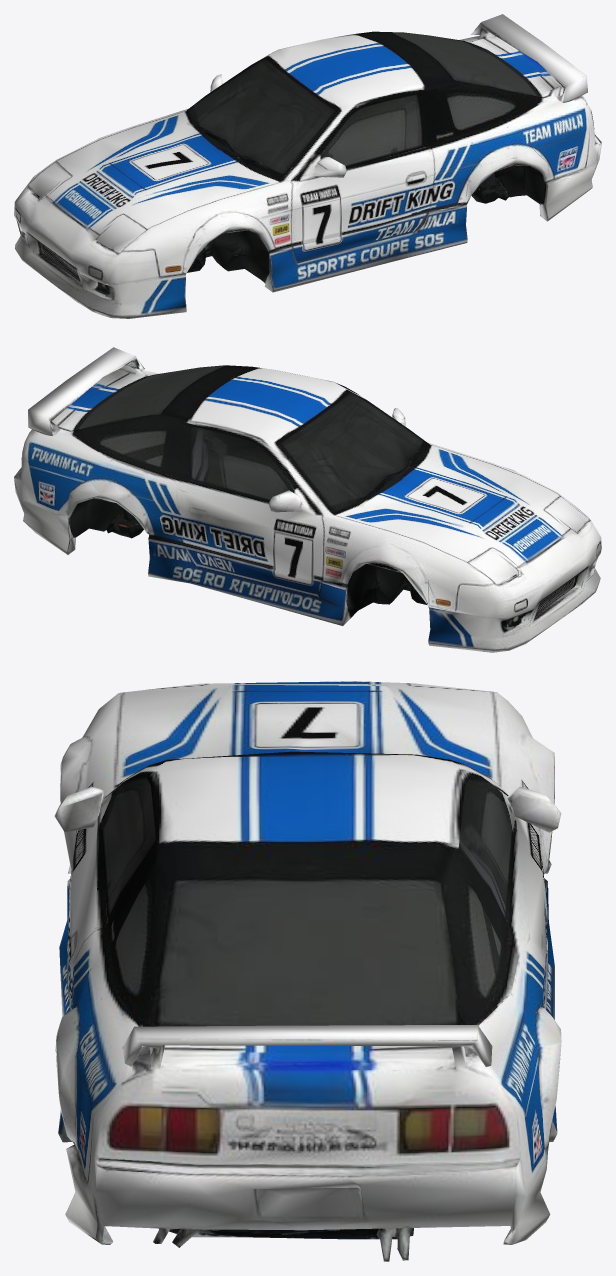
Rendered from car_katana.glb.
3 views of the same model, one above another, from view 1: azimuth 30°, elevation 25°; view 2: azimuth 150°, elevation 25°; view 3: azimuth 270°, elevation 25° (orthographic). The views are drawn at different scales.
Parts seen in each view (by area): view 1: Mesh_0; view 2: Mesh_0; view 3: Mesh_0.
Boxes of the visible parts, box(x1,y1,x2,y2) form: Mesh_0: box(14, 14, 601, 318); Mesh_0: box(14, 347, 601, 652); Mesh_0: box(54, 681, 561, 1261).
Bounding box in the file's own units: 1.9 × 0.5383 × 0.8165.
Materials: 1 (1 with a texture image).
